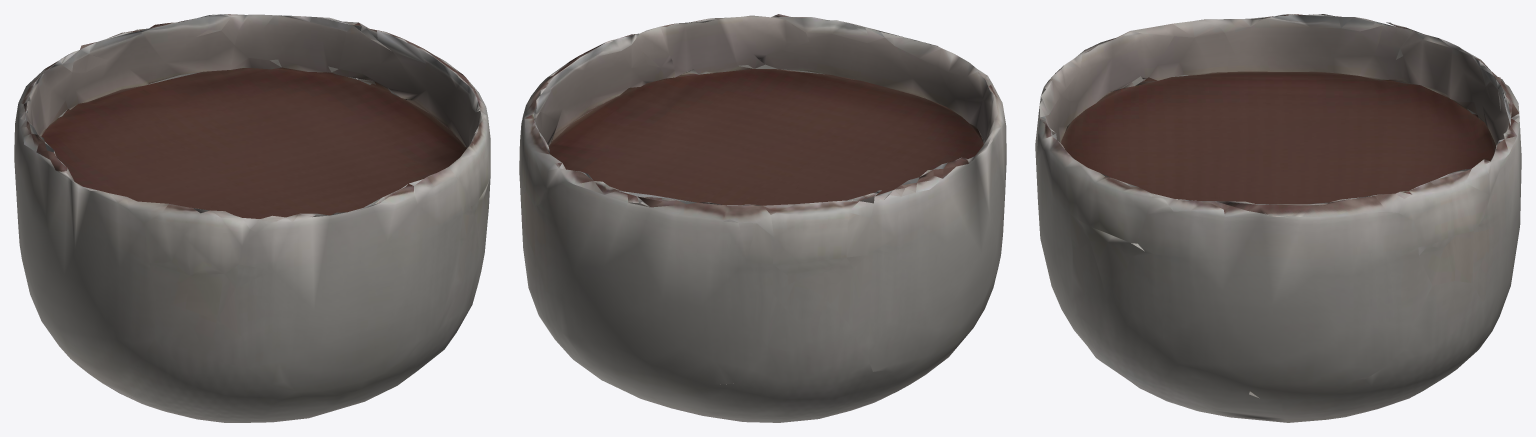
The model's file is cremeCacao.glb.
The picture shows the model from 3 angles, left to right: view 1: azimuth 30°, elevation 25°; view 2: azimuth 150°, elevation 25°; view 3: azimuth 270°, elevation 25°; orthographic projection.
Parts seen in each view (by area): view 1: high_poly.059; view 2: high_poly.059; view 3: high_poly.059.
Part boxes in pixels (x1,y1,x2,y2): high_poly.059: (14, 14, 490, 422); high_poly.059: (519, 14, 1006, 422); high_poly.059: (1035, 14, 1521, 422).
Bounding box in the file's own units: 0.9817 × 0.6204 × 0.9982.
Materials: 1 (1 with a texture image).
